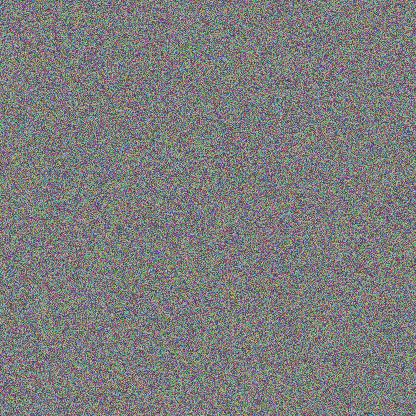occupied: (158, 244, 204, 300)
